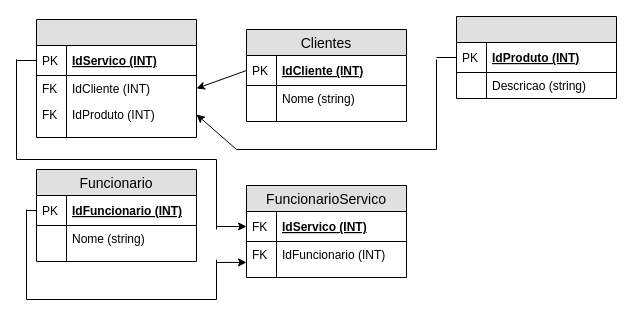
Some shapes in this 633 by 316 pixel diagram are drawn without their labels. Each missing label, with the box of its shape:
Produtos: (456, 16, 616, 98)
Servicos: (36, 18, 196, 138)
